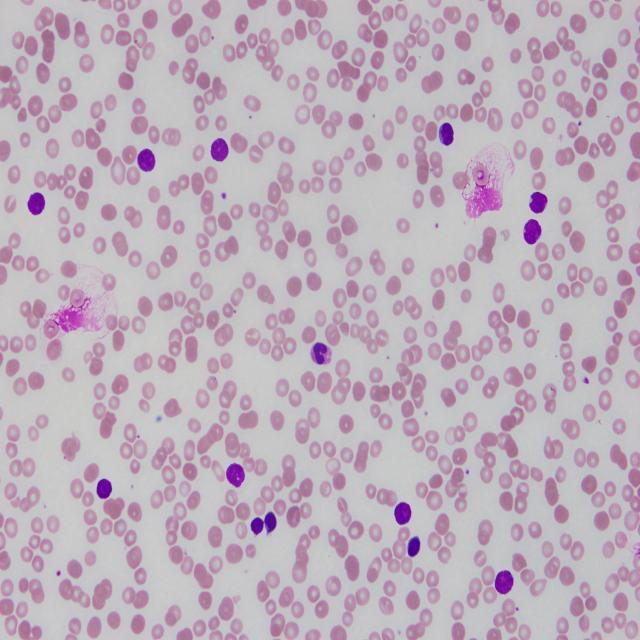cell: (495, 570, 514, 595), (210, 138, 229, 162), (226, 463, 245, 487), (138, 148, 155, 172), (524, 220, 541, 244), (529, 192, 548, 213), (28, 192, 45, 215), (394, 502, 411, 525), (439, 122, 454, 145), (96, 478, 112, 498), (264, 512, 276, 533), (250, 517, 264, 535), (408, 537, 420, 557)
